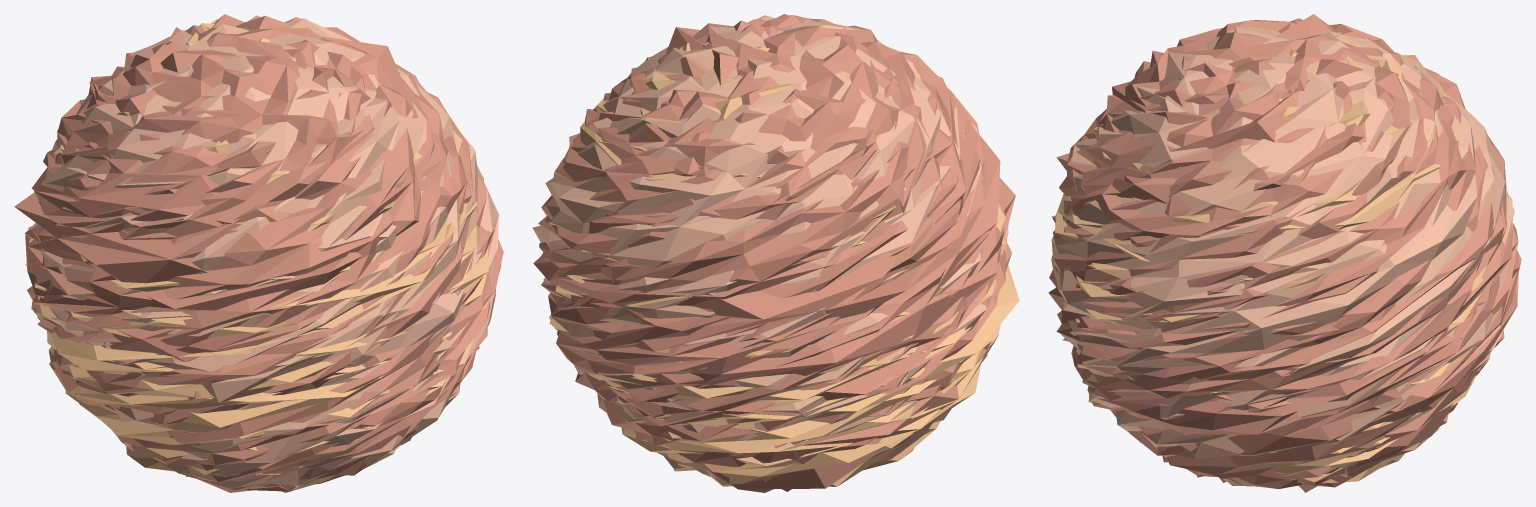
The model's file is venus.gltf.
3 views of the same model, side by side, from view 1: azimuth 30°, elevation 25°; view 2: azimuth 150°, elevation 25°; view 3: azimuth 270°, elevation 25° (orthographic).
Visible parts, largest first — view 1: Venus_Sphere, Venus_Sphere_34, Venus_Sphere_213, Venus_Sphere_12; view 2: Venus_Sphere, Venus_Sphere_34, Venus_Sphere_213, Venus_Sphere_12; view 3: Venus_Sphere, Venus_Sphere_34, Venus_Sphere_213, Venus_Sphere_12.
Part boxes in pixels (box(x1,y1,x2,y2)): Venus_Sphere: box(25, 14, 503, 491); Venus_Sphere_34: box(28, 18, 498, 491); Venus_Sphere_213: box(14, 15, 491, 492); Venus_Sphere_12: box(25, 23, 488, 492); Venus_Sphere: box(533, 14, 1005, 491); Venus_Sphere_34: box(532, 16, 1008, 477); Venus_Sphere_213: box(545, 19, 1015, 492); Venus_Sphere_12: box(549, 43, 1019, 486); Venus_Sphere: box(1048, 18, 1521, 488); Venus_Sphere_34: box(1051, 21, 1514, 485); Venus_Sphere_213: box(1056, 14, 1519, 485); Venus_Sphere_12: box(1051, 35, 1513, 492).
Size of the model in its own units: 0.0166 by 0.0165 by 0.0166.
